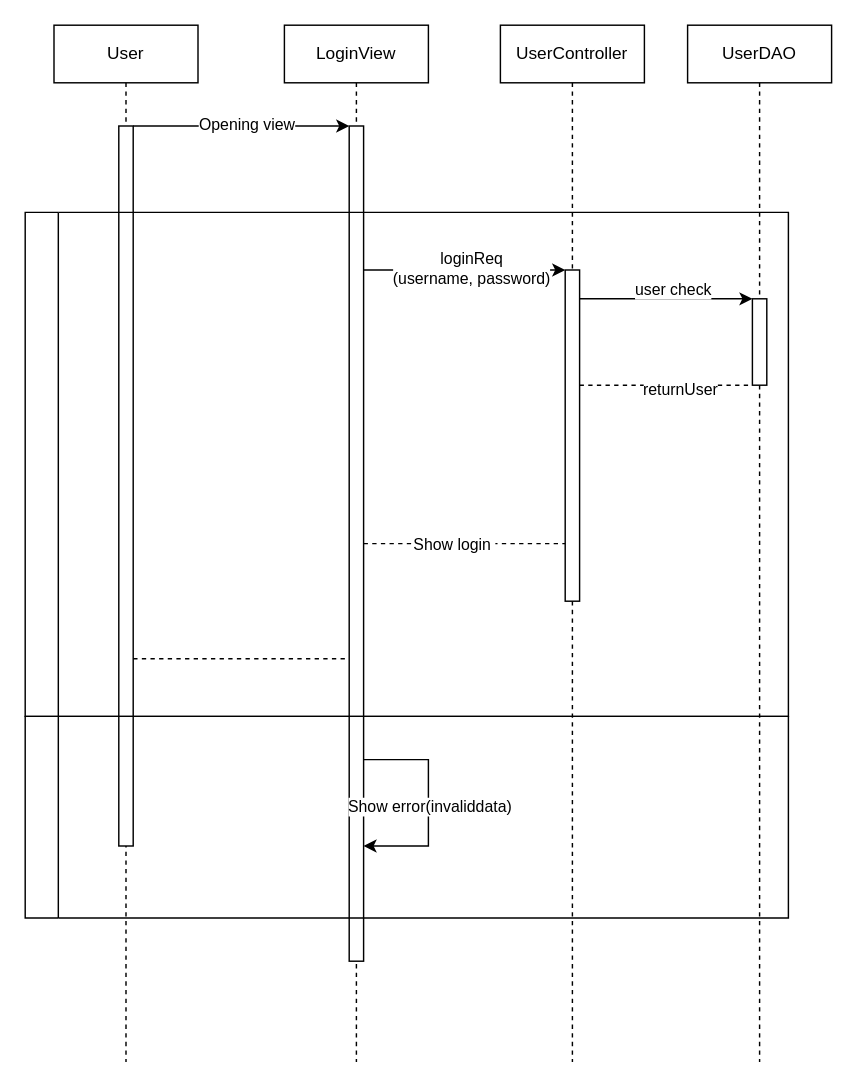
Image size: 857x1087. Some labels were removed from this diagram. Each missing label, with the box of its shape:
InvalidData: (24, 715, 788, 918)
ValidData: (24, 211, 788, 716)
